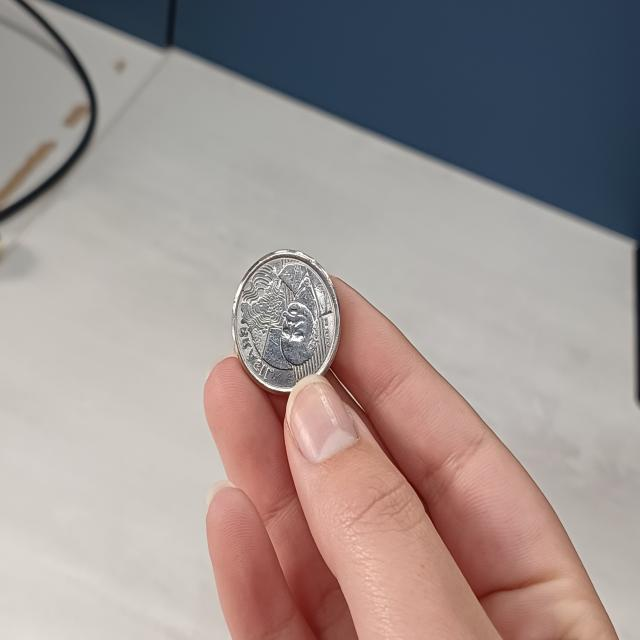50 cents: (231, 244, 345, 388)
